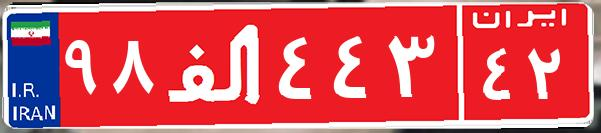2: (525, 38, 570, 115)
3: (385, 28, 445, 110)
4: (273, 28, 330, 110), (330, 28, 385, 110), (475, 38, 525, 113)
8: (110, 28, 158, 105)
9: (57, 26, 110, 107)
الف: (158, 15, 273, 115)
